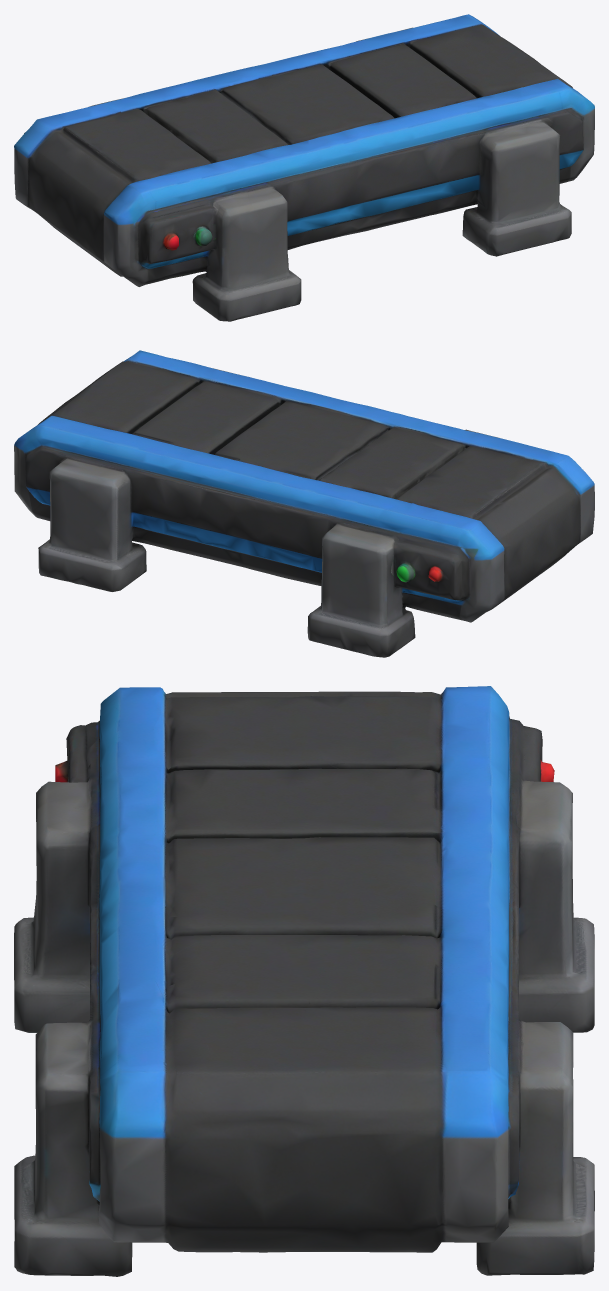
File: Meshy_AI_Blue_Trim_Docking_Pla_0422181932_texture.fbx
The picture shows the model from 3 angles, top to bottom: view 1: azimuth 30°, elevation 25°; view 2: azimuth 150°, elevation 25°; view 3: azimuth 270°, elevation 25°; orthographic projection. The views are drawn at different scales.
Parts seen in each view (by area): view 1: Mesh_0; view 2: Mesh_0; view 3: Mesh_0.
Part boxes in pixels (x1,y1,x2,y2): Mesh_0: [14, 14, 594, 321]; Mesh_0: [14, 350, 594, 657]; Mesh_0: [14, 686, 594, 1276].
Bounding box in the file's own units: 200 × 49.68 × 115.
Materials: 1 (1 with a texture image).
